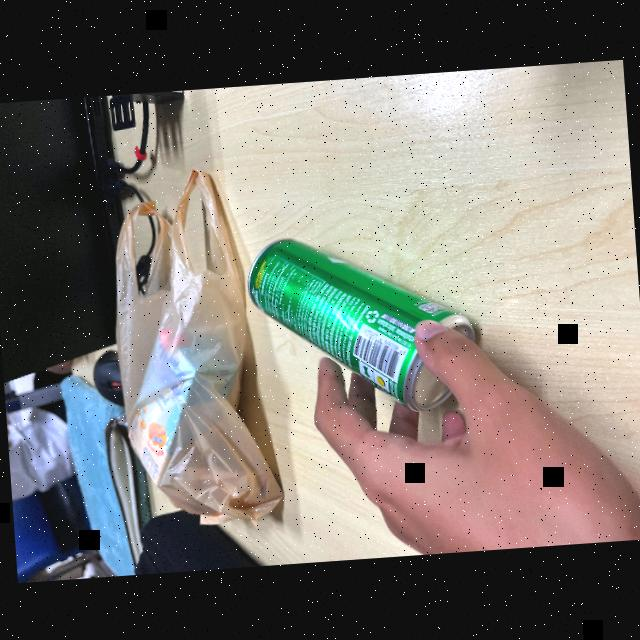can: (238, 217, 481, 438)
